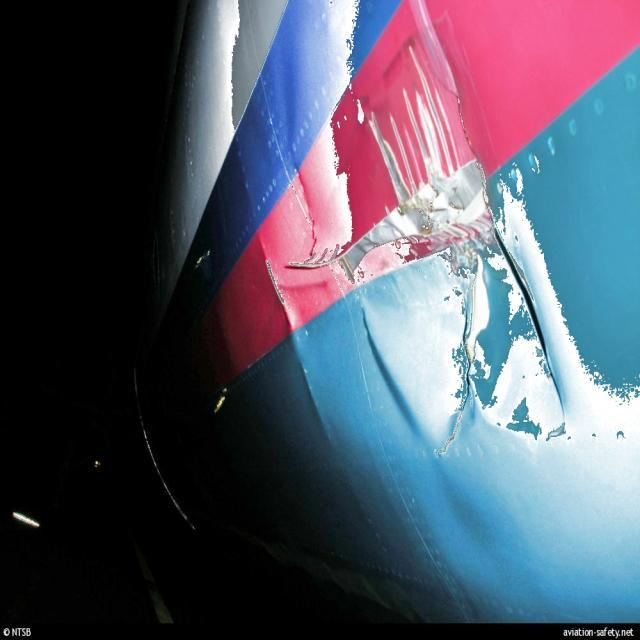crack: (440, 302, 475, 461)
dent: (362, 307, 428, 448), (476, 334, 527, 422)
